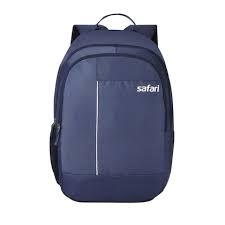backpack: (49, 12, 174, 202)
